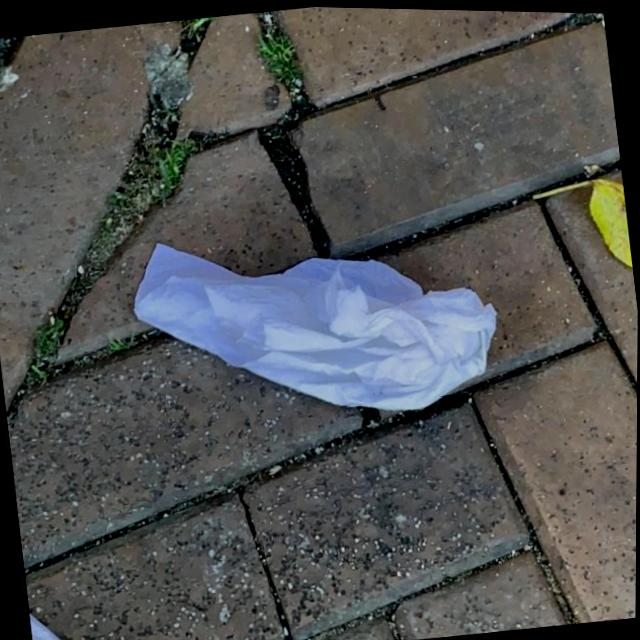Paper: (119, 193, 506, 452)
